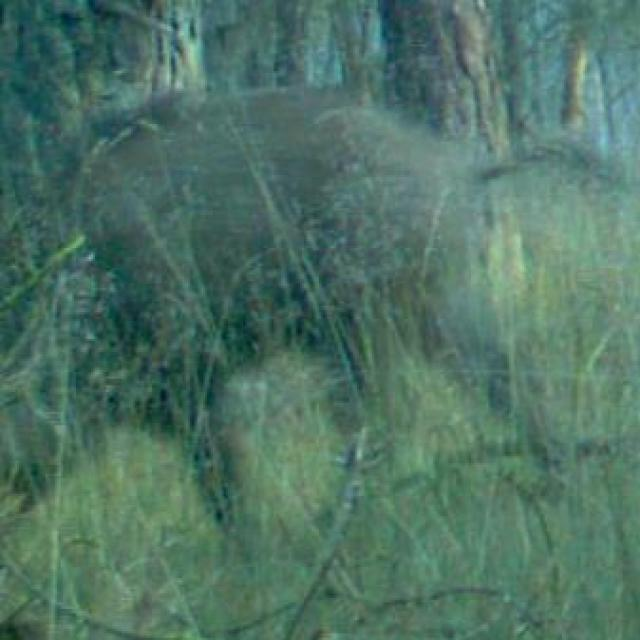pig: (17, 31, 576, 515)
